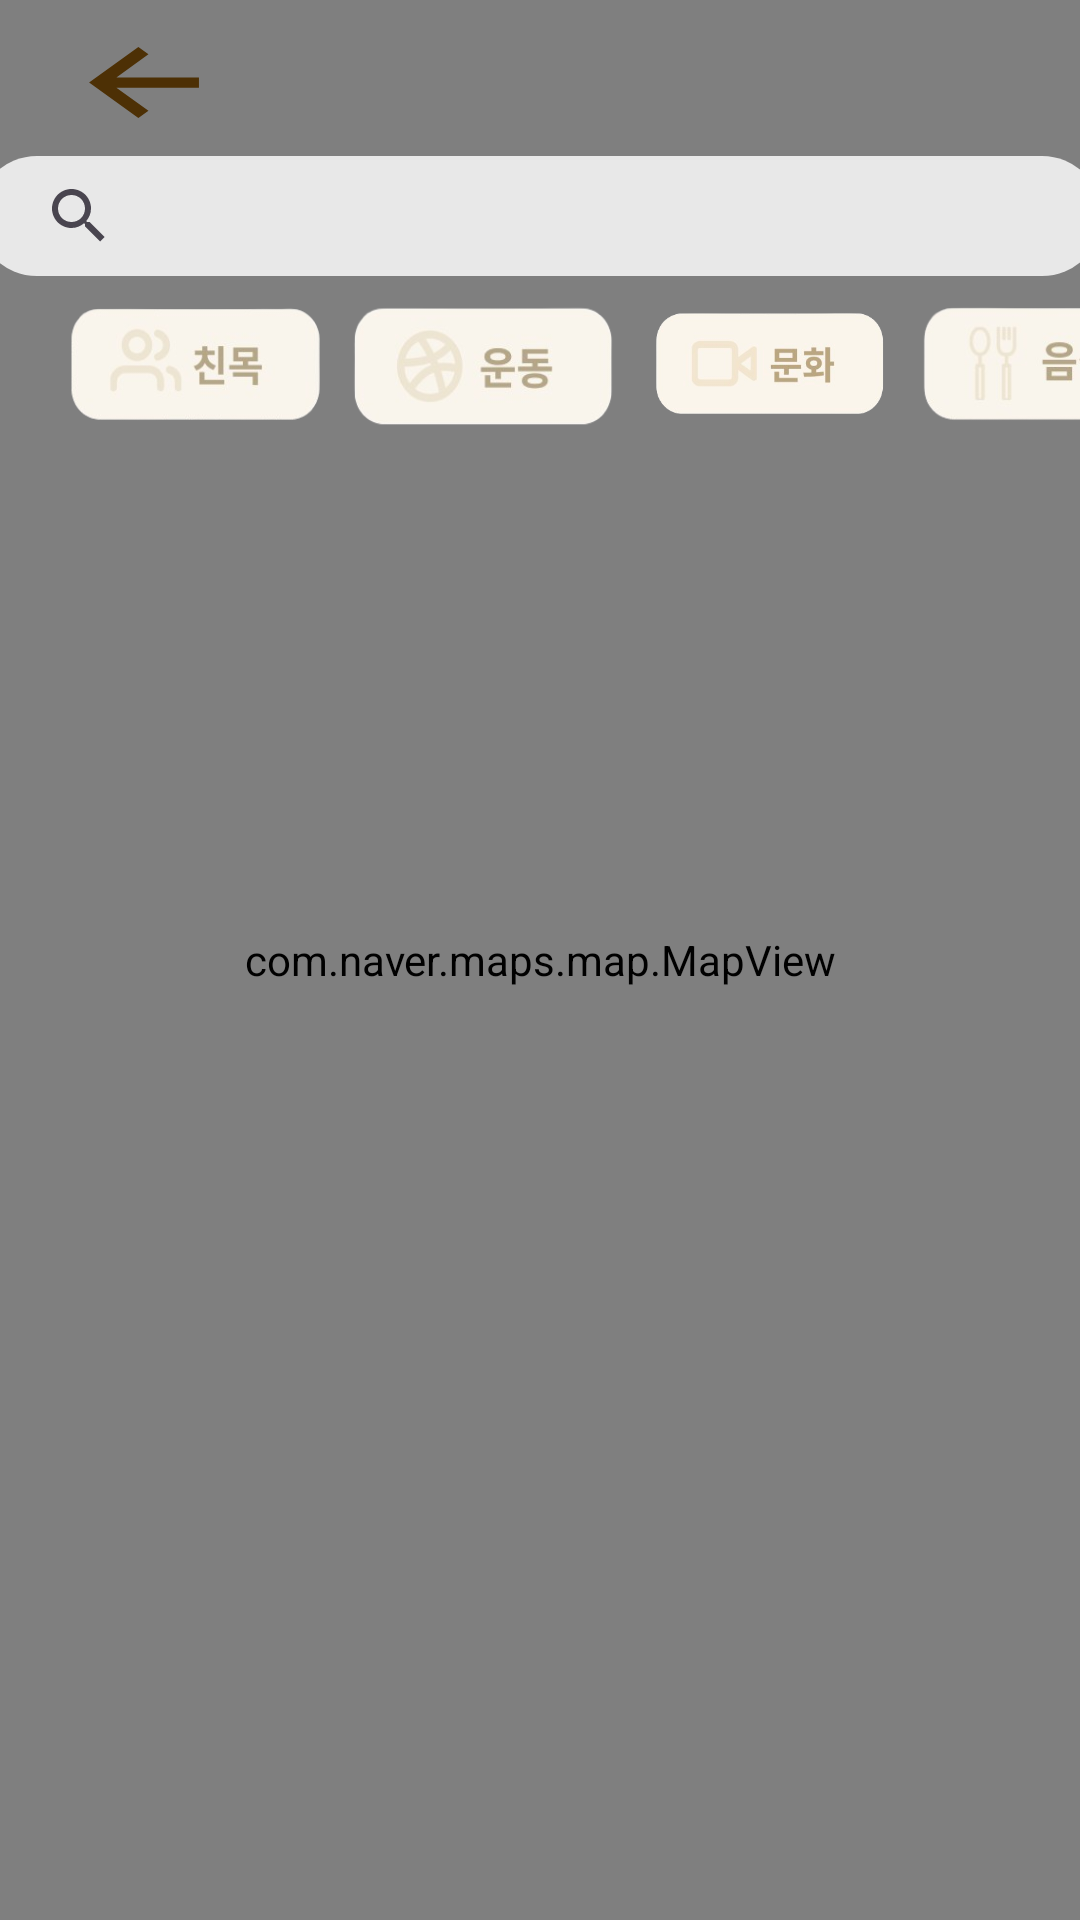

Where icons sit on this 1080px×1920px app screen, as (x1, y1, x2, y2):
map movie: (656, 313, 883, 414)
meeting backbutton: (89, 47, 199, 118)
